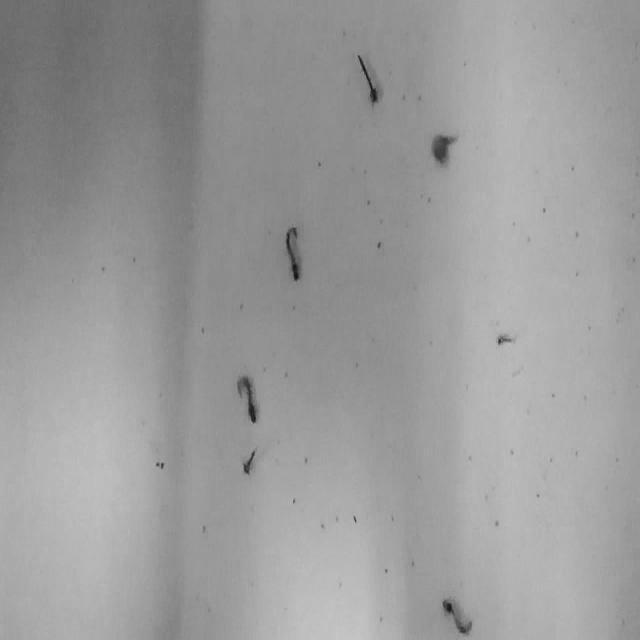larvas: (442, 596, 472, 634), (357, 54, 378, 102), (237, 375, 257, 425), (284, 225, 300, 282), (431, 132, 458, 161), (242, 444, 257, 474), (497, 332, 515, 345)
